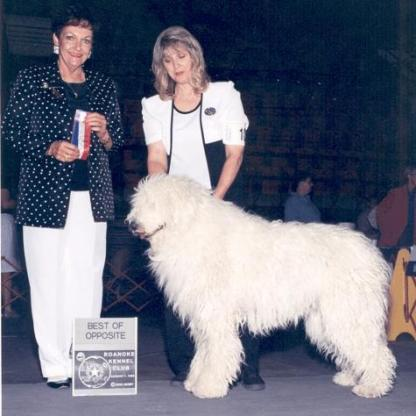komondor: (124, 164, 396, 394)
